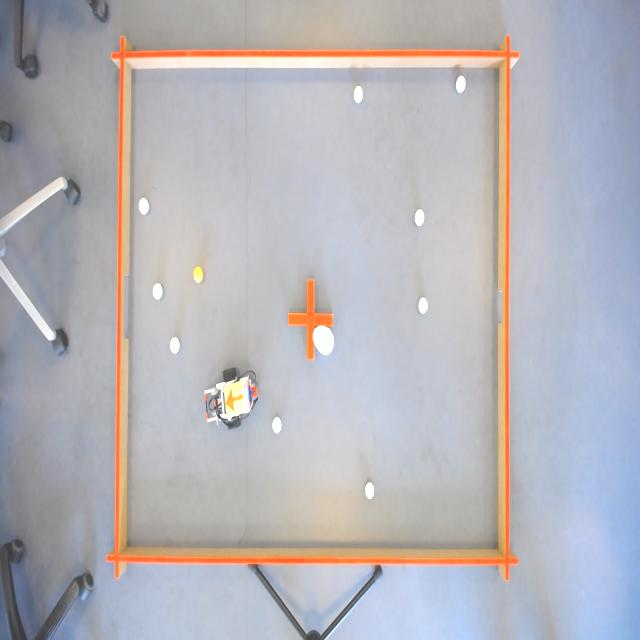cross: (287, 277, 335, 363)
egg: (310, 321, 336, 359)
orange_ball: (192, 263, 204, 287)
robot: (223, 380, 248, 423)
white_ball: (270, 413, 284, 437), (416, 294, 430, 318), (352, 83, 366, 107), (364, 479, 377, 503), (455, 74, 468, 96), (152, 280, 164, 303), (137, 197, 150, 218), (168, 335, 180, 357), (414, 208, 425, 228)
